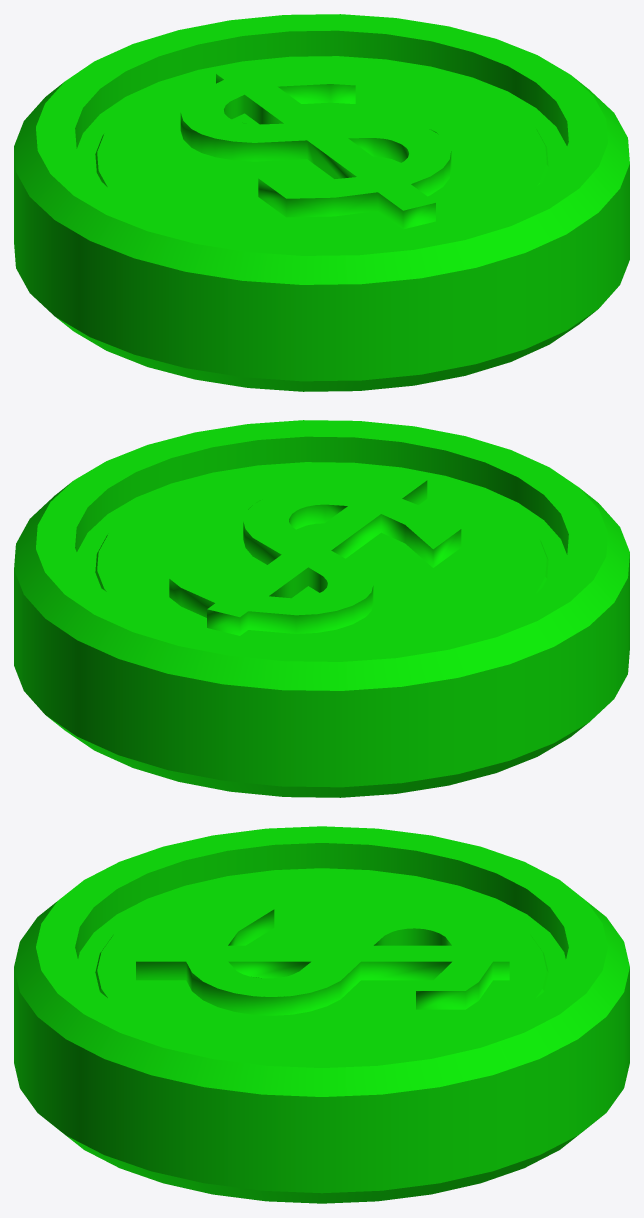
Rendered from Coin_New.glb.
3 views of the same model, one above another, from view 1: azimuth 30°, elevation 25°; view 2: azimuth 150°, elevation 25°; view 3: azimuth 270°, elevation 25° (orthographic).
Parts seen in each view (by area): view 1: Coin_New; view 2: Coin_New; view 3: Coin_New.
Part boxes in pixels (x1,y1,x2,y2): Coin_New: (14, 14, 629, 391); Coin_New: (14, 420, 629, 797); Coin_New: (14, 826, 629, 1203).
Size of the model in its own units: 2 by 0.4856 by 2.
